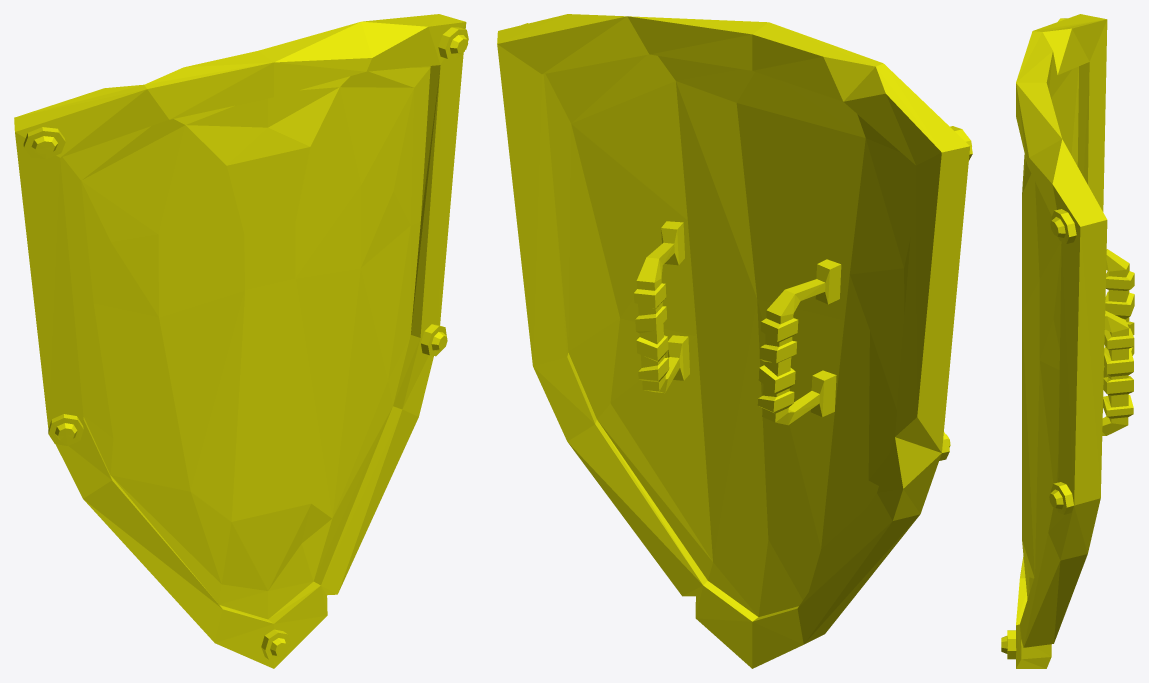
Rendered from SM_Wep_Shield_04.glb.
3 views of the same model, side by side, from view 1: azimuth 30°, elevation 25°; view 2: azimuth 150°, elevation 25°; view 3: azimuth 270°, elevation 25° (orthographic). The views are drawn at different scales.
Parts seen in each view (by area): view 1: SM_Wep_Shield_04; view 2: SM_Wep_Shield_04; view 3: SM_Wep_Shield_04.
Part boxes in pixels (box(x1,y1,x2,y2)): SM_Wep_Shield_04: box(14, 14, 468, 668); SM_Wep_Shield_04: box(497, 14, 972, 668); SM_Wep_Shield_04: box(1001, 14, 1134, 668).
Bounding box in the file's own units: 0.5314 × 0.6822 × 0.1409.
1 material, 1 textured.
